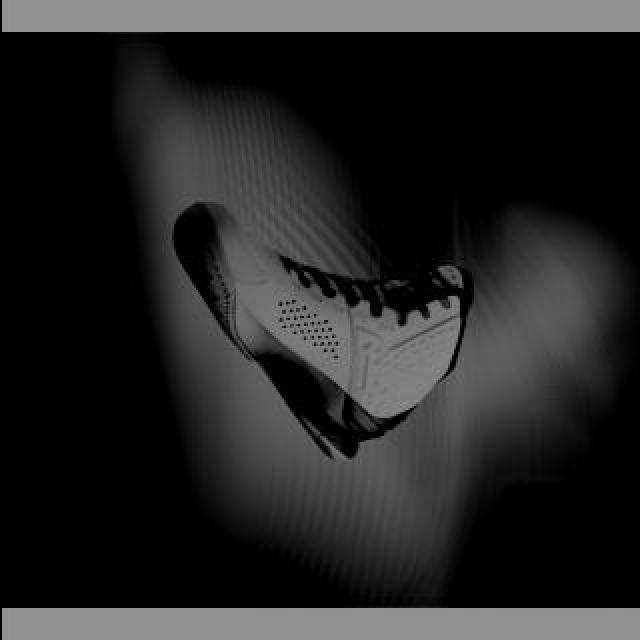shoe: (173, 203, 473, 457)
